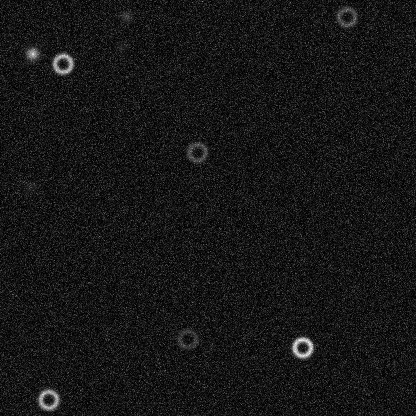Ring: (290, 335, 314, 359), (50, 51, 74, 75), (36, 387, 60, 411), (185, 140, 209, 164), (175, 326, 199, 350), (334, 4, 358, 28)
Spot: (118, 8, 134, 24), (114, 38, 130, 54), (21, 179, 37, 195), (24, 45, 40, 61)
